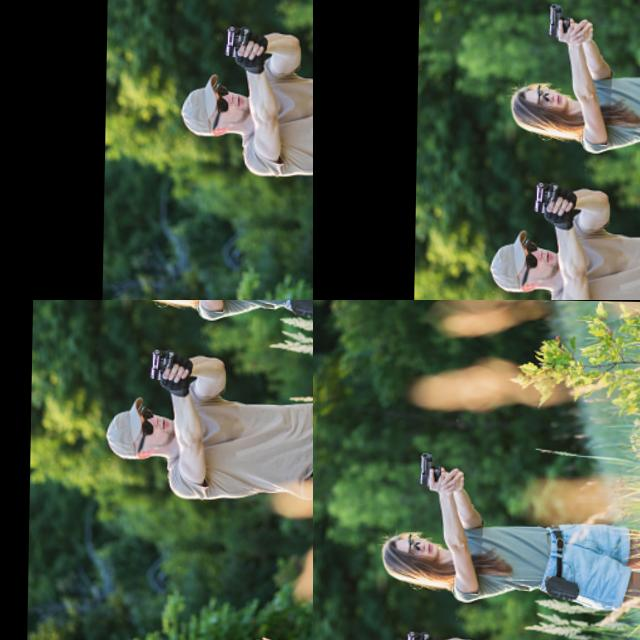handgun: (204, 0, 313, 184), (174, 358, 222, 436), (416, 449, 441, 486), (400, 628, 424, 640)
